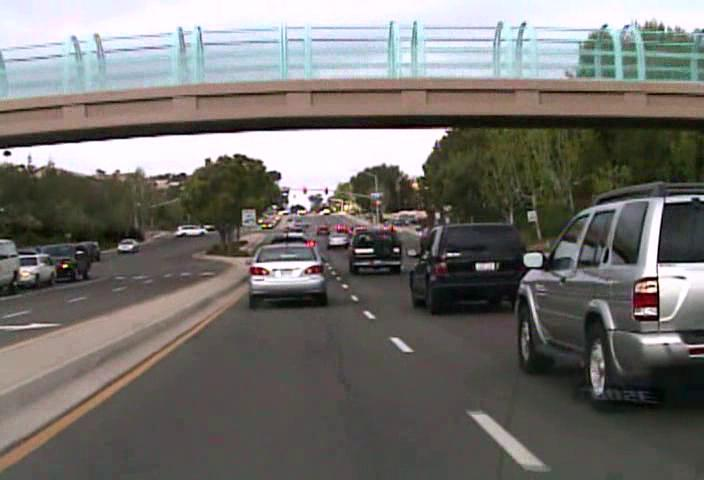speedLimitUrdbl: (241, 208, 256, 227)
